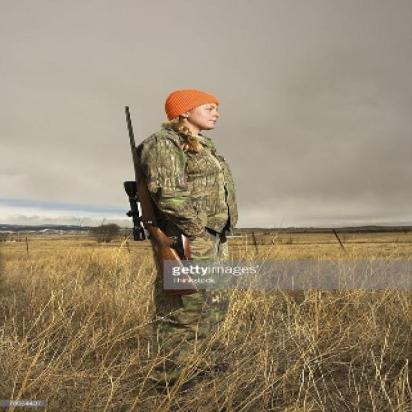Gun: (111, 99, 198, 293)
